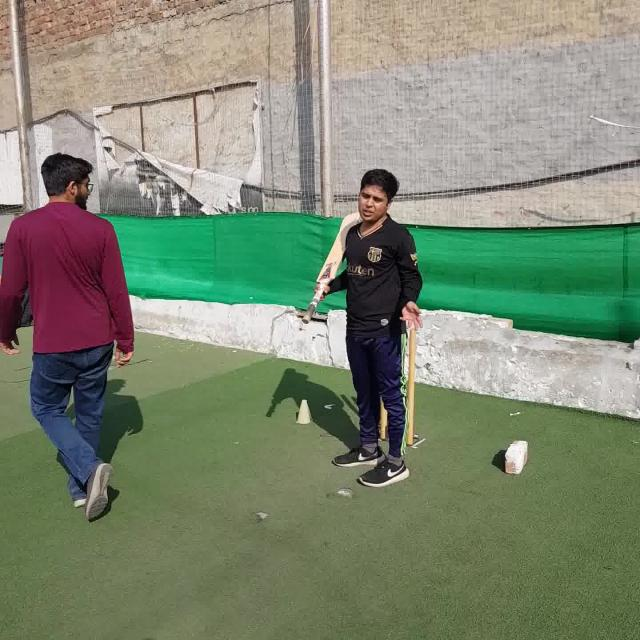bat: (303, 213, 361, 319)
